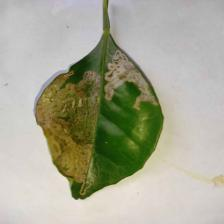black spot: (22, 58, 180, 165)
